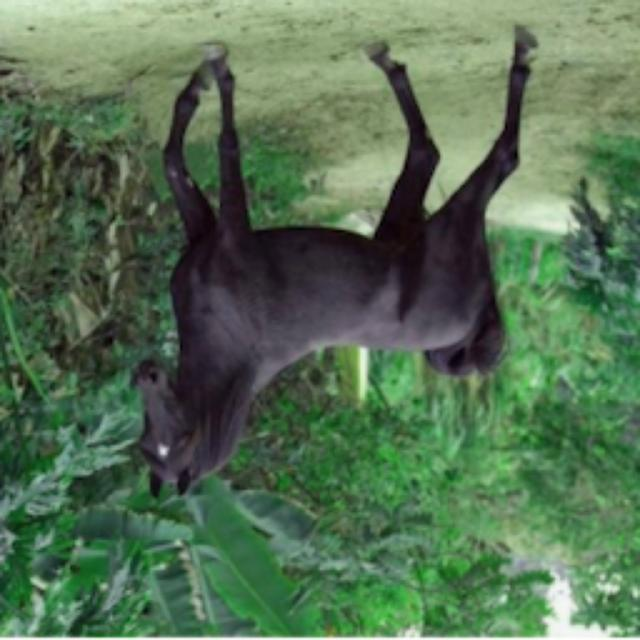Horse: (122, 22, 548, 508)
